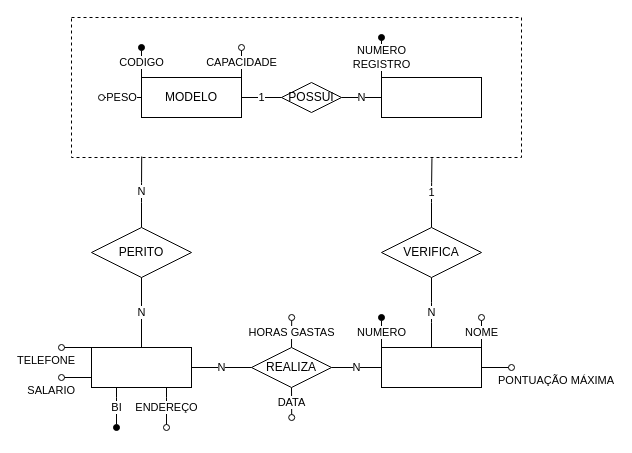
Some shapes in this 632 by 453 pixel diagram are drawn without their labels. Each missing label, with the centre of its shape:
"AVIAO" goes at pixel 431 97.
"TESTE" goes at pixel 431 367.
"TÉCNICO" goes at pixel 141 367.
